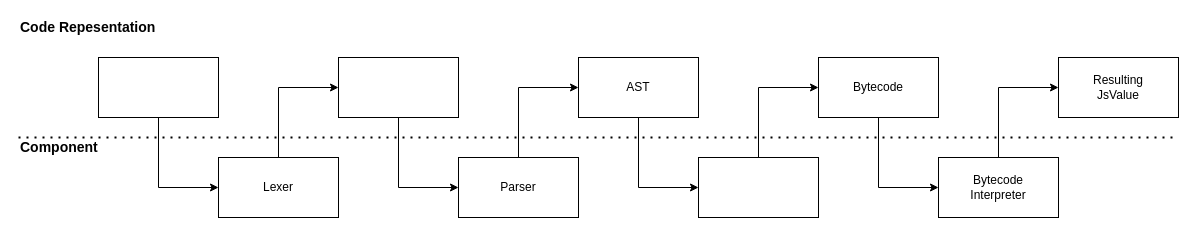
Some shapes in this 1197 by 235 pixel diagram are drawn without their labels. Each missing label, with the centre of its shape:
"Bytecode Compiler" belongs at pixel 758 187.
"JavaScript Source Code" belongs at pixel 158 87.
"Tokens" belongs at pixel 398 87.
